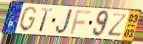9: (91, 10, 110, 39)
F: (69, 9, 92, 35)
G: (18, 6, 38, 33)
J: (54, 8, 75, 35)
T: (38, 7, 54, 33)
Z: (106, 13, 129, 38)
